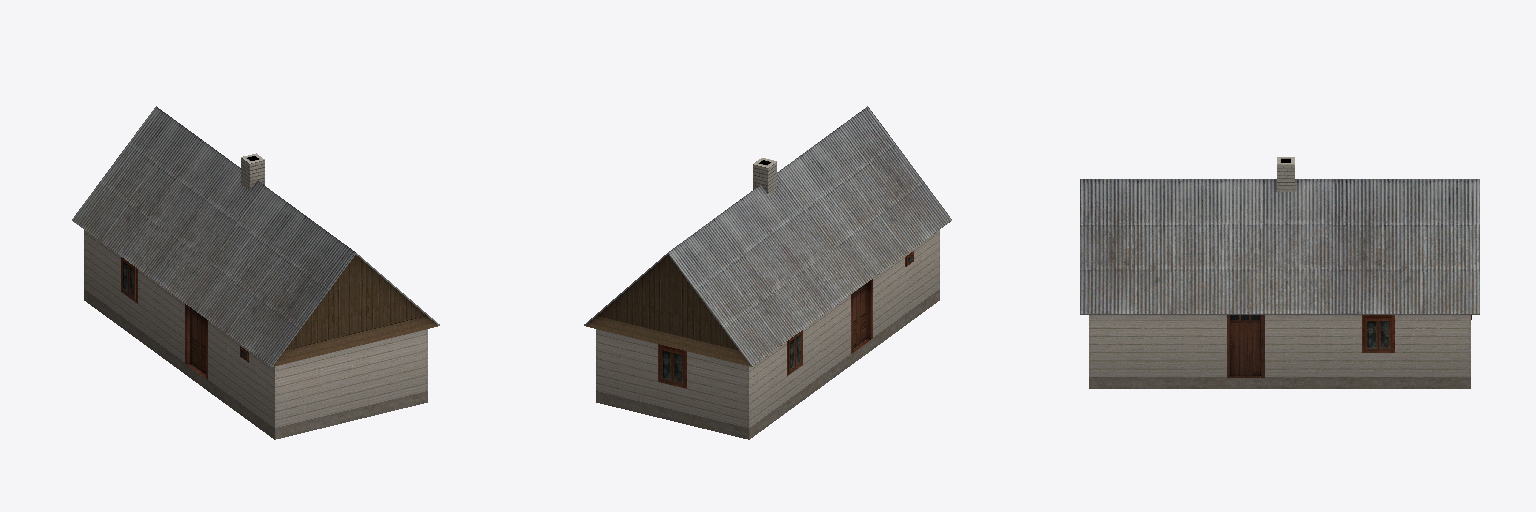
The picture shows the model from 3 angles: view 1: azimuth 30°, elevation 25°; view 2: azimuth 150°, elevation 25°; view 3: azimuth 270°, elevation 25°; orthographic projection.
Visible parts, largest first — view 1: polish_house_3; view 2: polish_house_3; view 3: polish_house_3.
Boxes of the visible parts, x1=… form: polish_house_3: x1=72, y1=106, x2=439, y2=439; polish_house_3: x1=584, y1=106, x2=951, y2=439; polish_house_3: x1=1080, y1=157, x2=1479, y2=388.
Size of the model in its own units: 5.72 by 6.16 by 11.71.
1 materials, 1 textured.